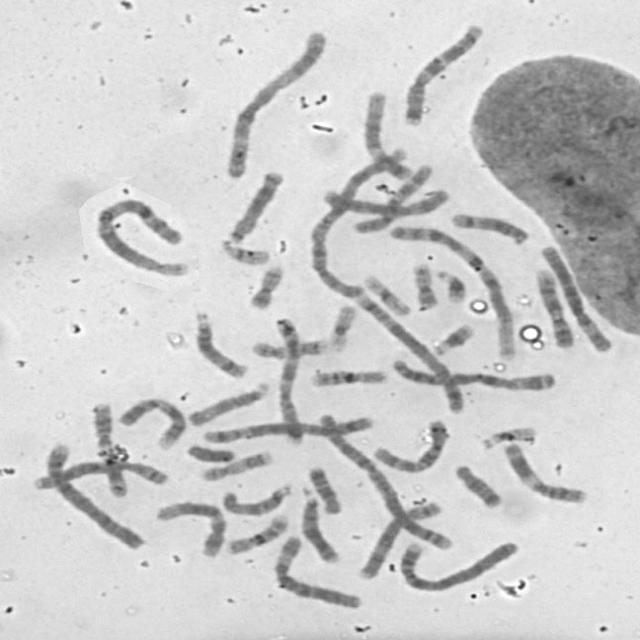A1: (384, 220, 522, 364), (90, 193, 192, 279)
A2: (311, 410, 454, 552), (307, 142, 415, 302)
A3: (218, 25, 332, 181), (385, 354, 559, 394)
B4: (40, 438, 148, 552), (393, 535, 523, 593)
B5: (348, 282, 470, 416), (200, 412, 378, 444)
C10: (348, 163, 434, 235), (368, 414, 450, 476)
C11: (498, 438, 590, 505), (85, 397, 128, 500)
C12: (358, 86, 416, 182), (151, 497, 228, 559)
C6: (536, 241, 616, 355), (268, 531, 366, 611)
C7: (397, 19, 487, 127), (271, 313, 305, 447)
C8: (354, 496, 446, 580), (30, 455, 172, 491)
C9: (112, 393, 190, 449), (530, 264, 578, 349)
D13: (222, 166, 288, 246), (295, 484, 343, 564)
D14: (188, 307, 251, 380), (448, 208, 532, 247)
D15: (184, 377, 272, 428), (218, 480, 294, 517)
E16: (222, 509, 292, 556), (305, 364, 391, 389)
E17: (198, 446, 276, 482), (248, 334, 331, 360)
E18: (449, 460, 505, 510), (302, 461, 344, 516)
F19: (356, 269, 414, 317), (325, 299, 359, 353)
F20: (245, 261, 287, 310), (408, 258, 440, 310)
G21: (428, 318, 478, 356), (432, 264, 469, 306)
G22: (476, 421, 539, 450), (216, 236, 273, 267)
X: (319, 184, 452, 218)
Y: (183, 440, 238, 465)
